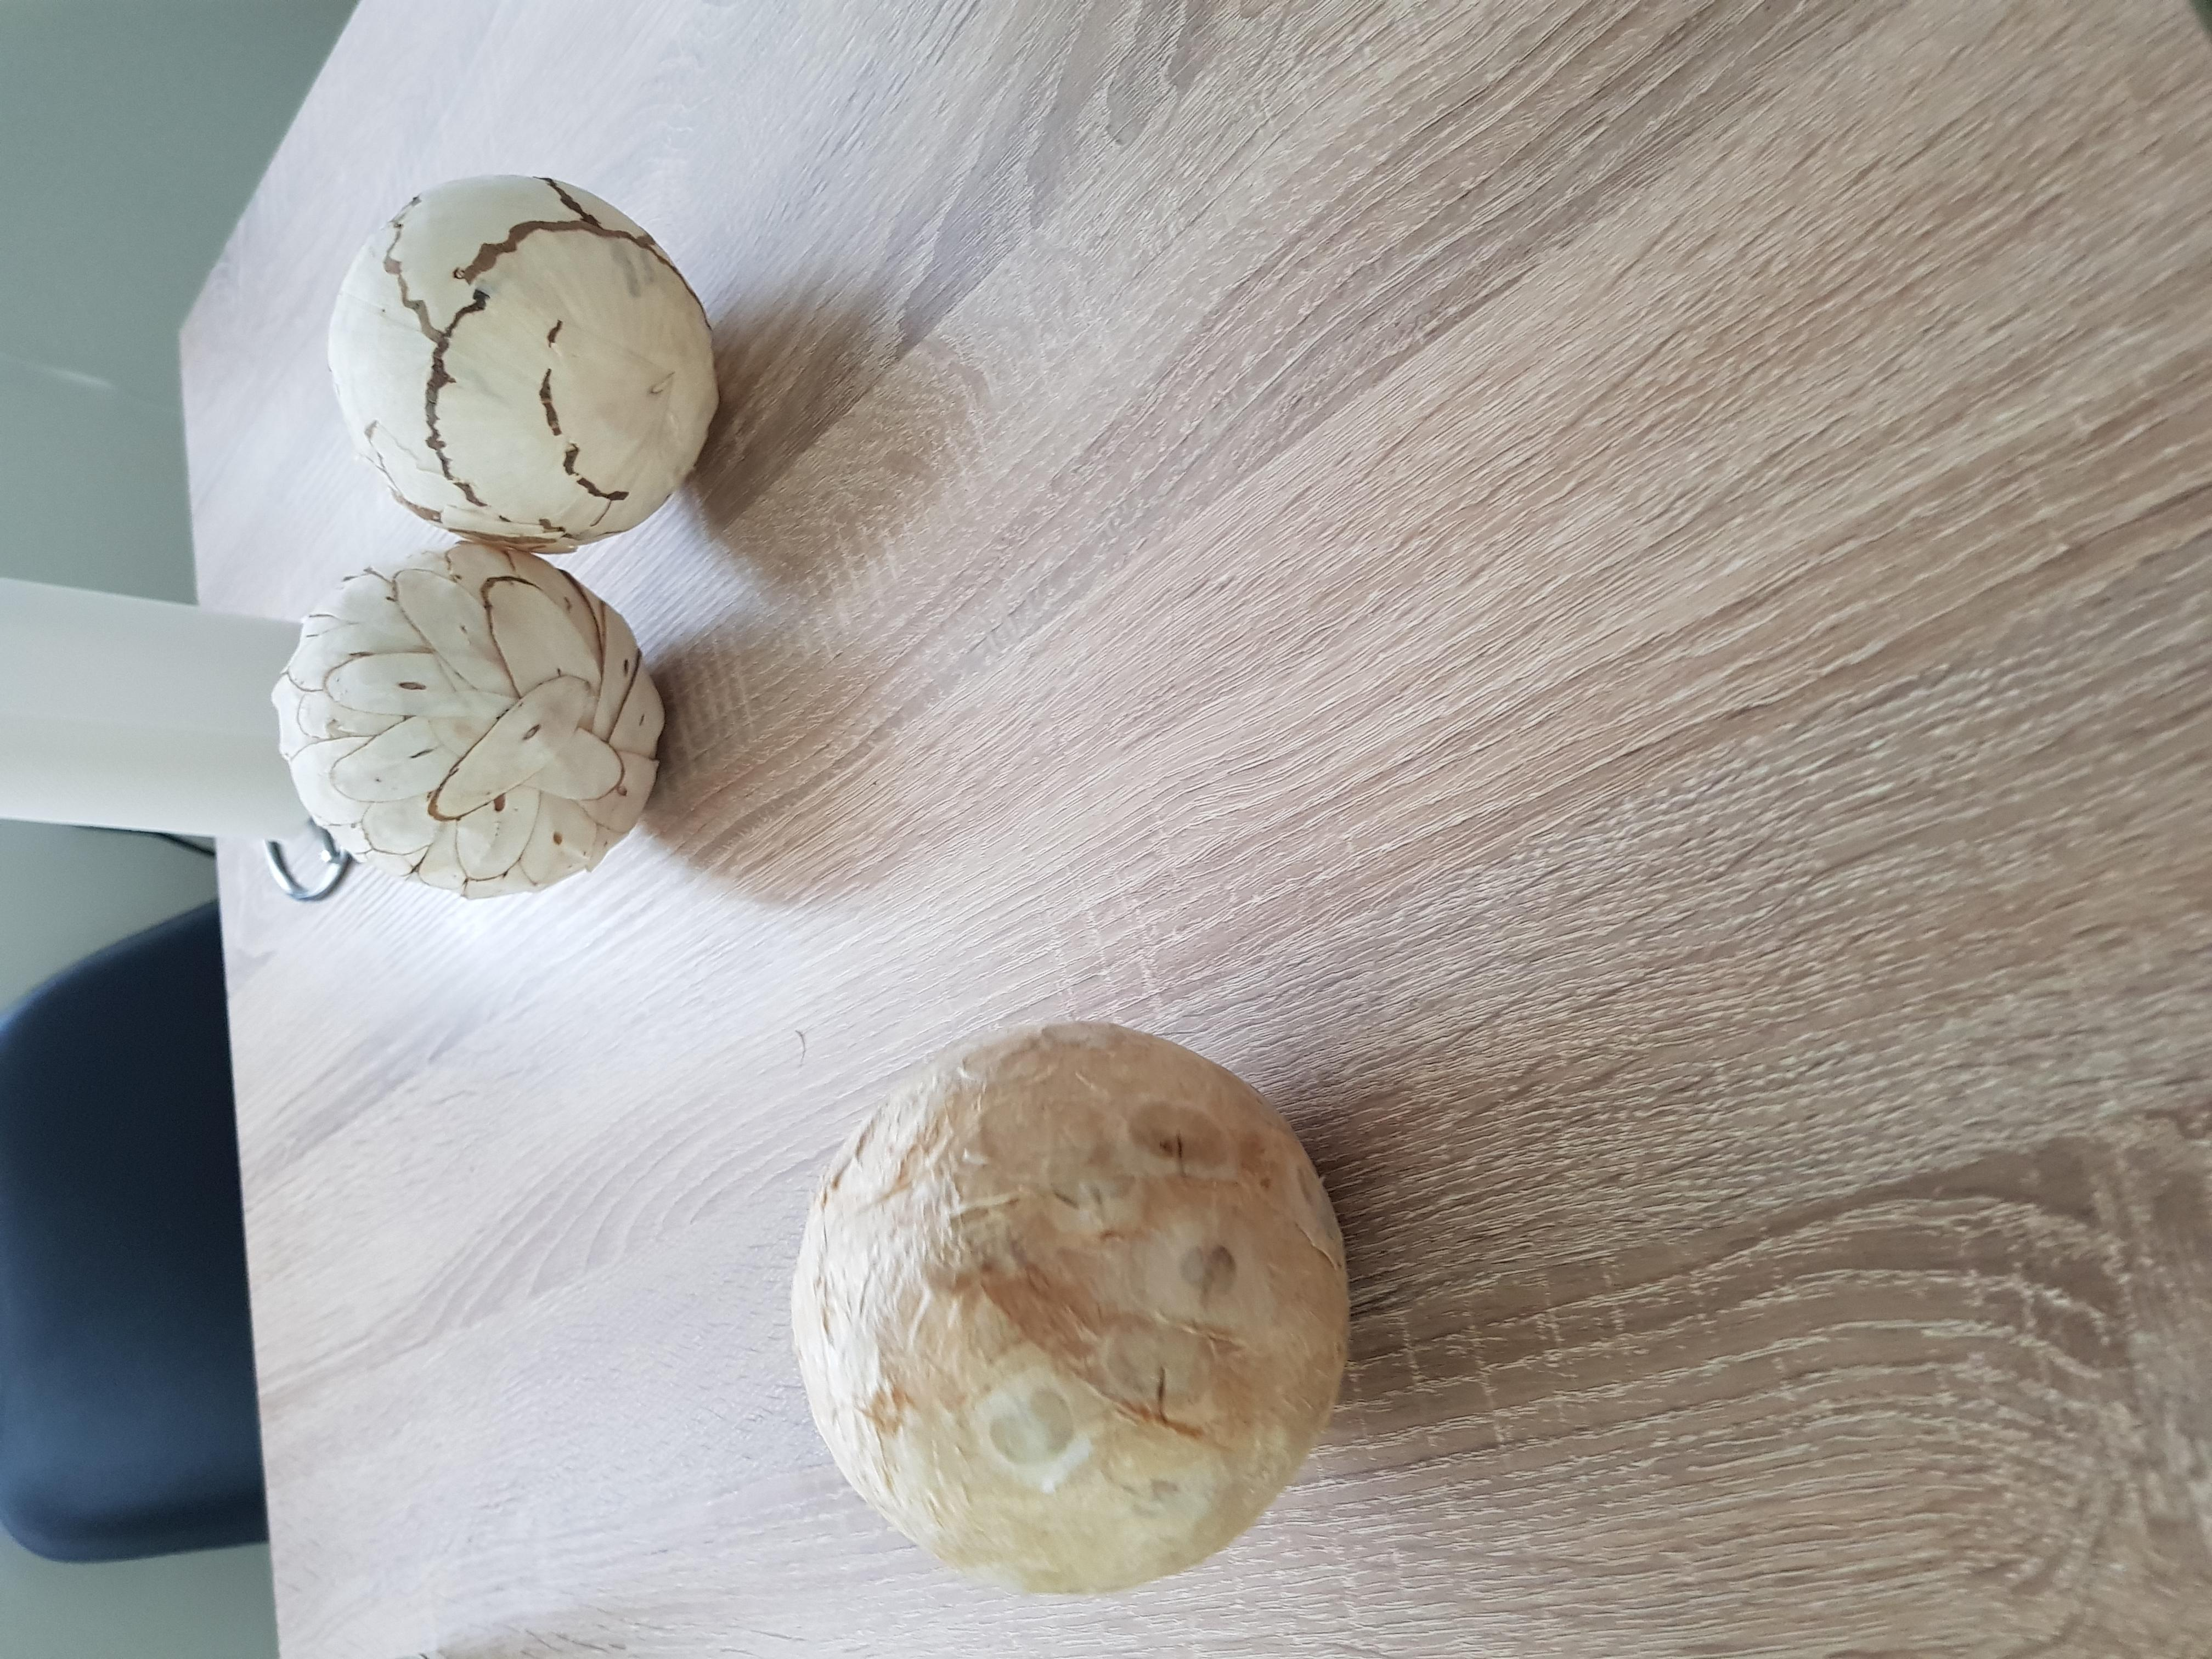Sphere: (773, 1014, 1343, 1601), (310, 174, 723, 545), (266, 535, 672, 904)
